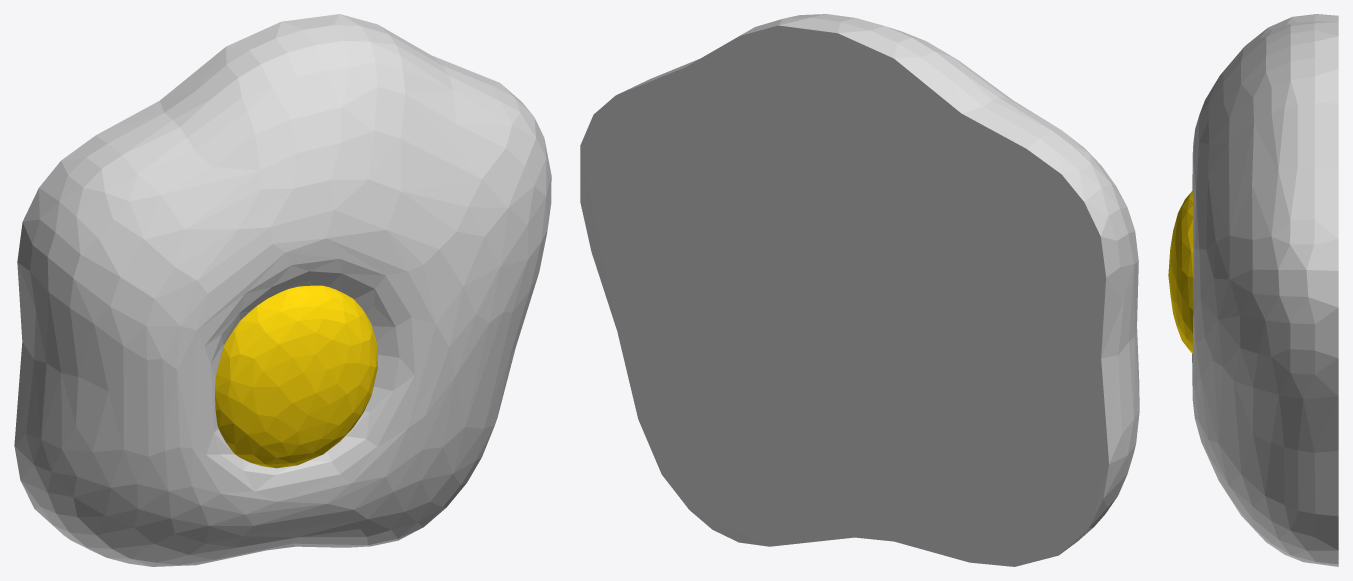
File: fried_egg.glb
3 views of the same model, side by side, from view 1: azimuth 30°, elevation 25°; view 2: azimuth 150°, elevation 25°; view 3: azimuth 270°, elevation 25° (orthographic). The views are drawn at different scales.
Parts seen in each view (by area): view 1: Plane.170; view 2: Plane.170; view 3: Plane.170.
Part boxes in pixels (x1,y1,x2,y2): Plane.170: (14, 14, 551, 566); Plane.170: (580, 14, 1139, 566); Plane.170: (1168, 14, 1338, 566).
Bounding box in the file's own units: 14.24 × 13.71 × 4.4.
